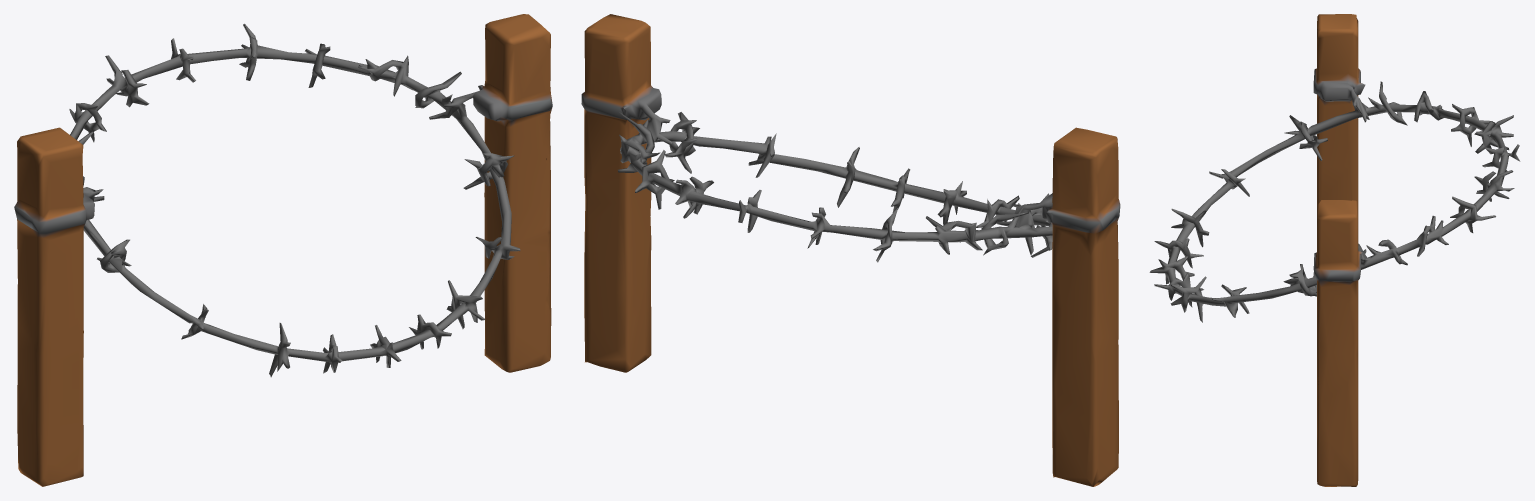
The model's file is gen3d-barbed-wire-lod0.glb.
The picture shows the model from 3 angles, left to right: view 1: azimuth 30°, elevation 25°; view 2: azimuth 150°, elevation 25°; view 3: azimuth 270°, elevation 25°; orthographic projection. The views are drawn at different scales.
Visible parts, largest first — view 1: part_0; view 2: part_0; view 3: part_0.
Boxes of the visible parts, bbox=[...] form: part_0: bbox=[14, 14, 552, 486]; part_0: bbox=[581, 14, 1120, 486]; part_0: bbox=[1149, 14, 1520, 486].
Size of the model in its own units: 1.62 by 0.9984 by 1.24.
